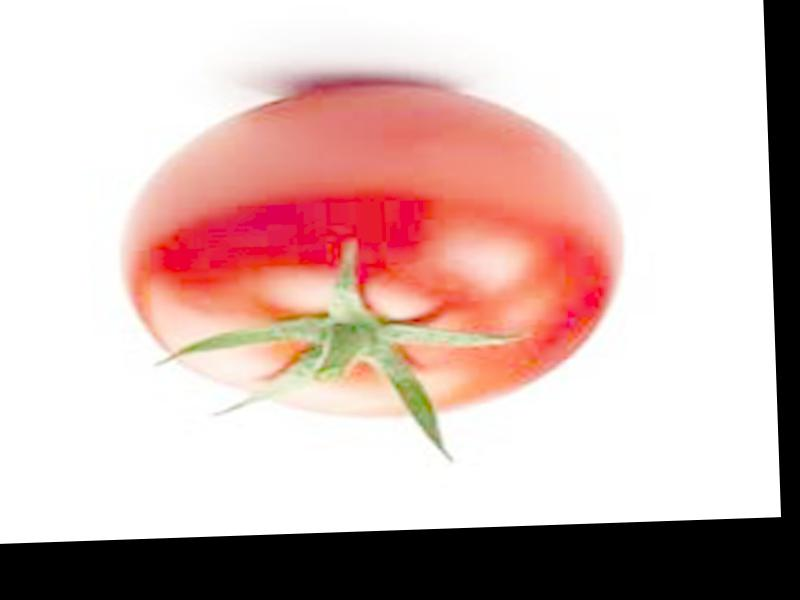Tomato: (122, 74, 622, 425)
